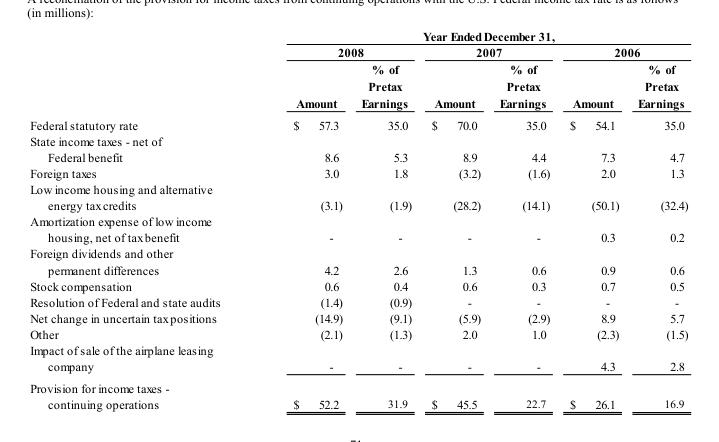table: (29, 29, 687, 410)
table column: (29, 29, 255, 410), (255, 29, 351, 410), (489, 29, 559, 410), (351, 29, 420, 410), (420, 29, 489, 410), (559, 29, 627, 410), (627, 29, 687, 410)
table column header: (29, 29, 687, 113)
table projected row header: (29, 132, 687, 148)
table row: (29, 60, 687, 113), (29, 341, 687, 376), (29, 376, 687, 410), (29, 180, 687, 213), (29, 213, 687, 245), (29, 245, 687, 277), (29, 113, 687, 132), (29, 43, 687, 60), (29, 132, 687, 148), (29, 148, 687, 164), (29, 164, 687, 180), (29, 277, 687, 293), (29, 293, 687, 309), (29, 309, 687, 325), (29, 325, 687, 341), (29, 29, 687, 43)
table spanning cell: (255, 29, 687, 43), (255, 43, 420, 60), (420, 43, 559, 60), (559, 43, 687, 60)
